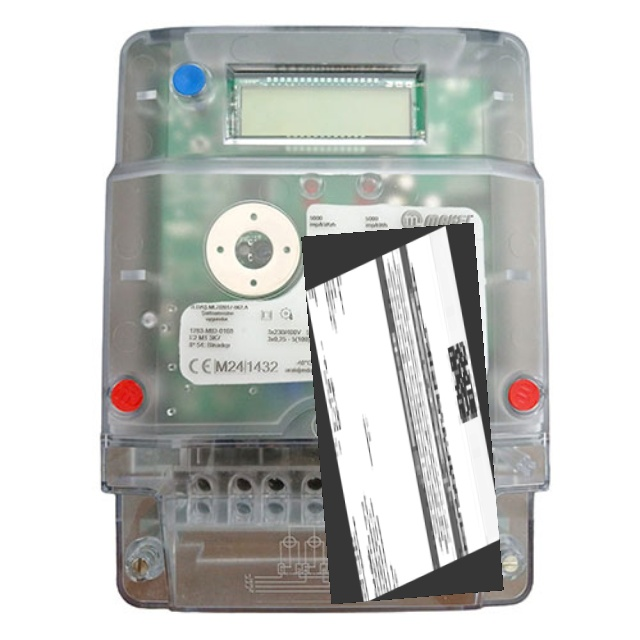electricity-bill: (300, 222, 504, 603)
